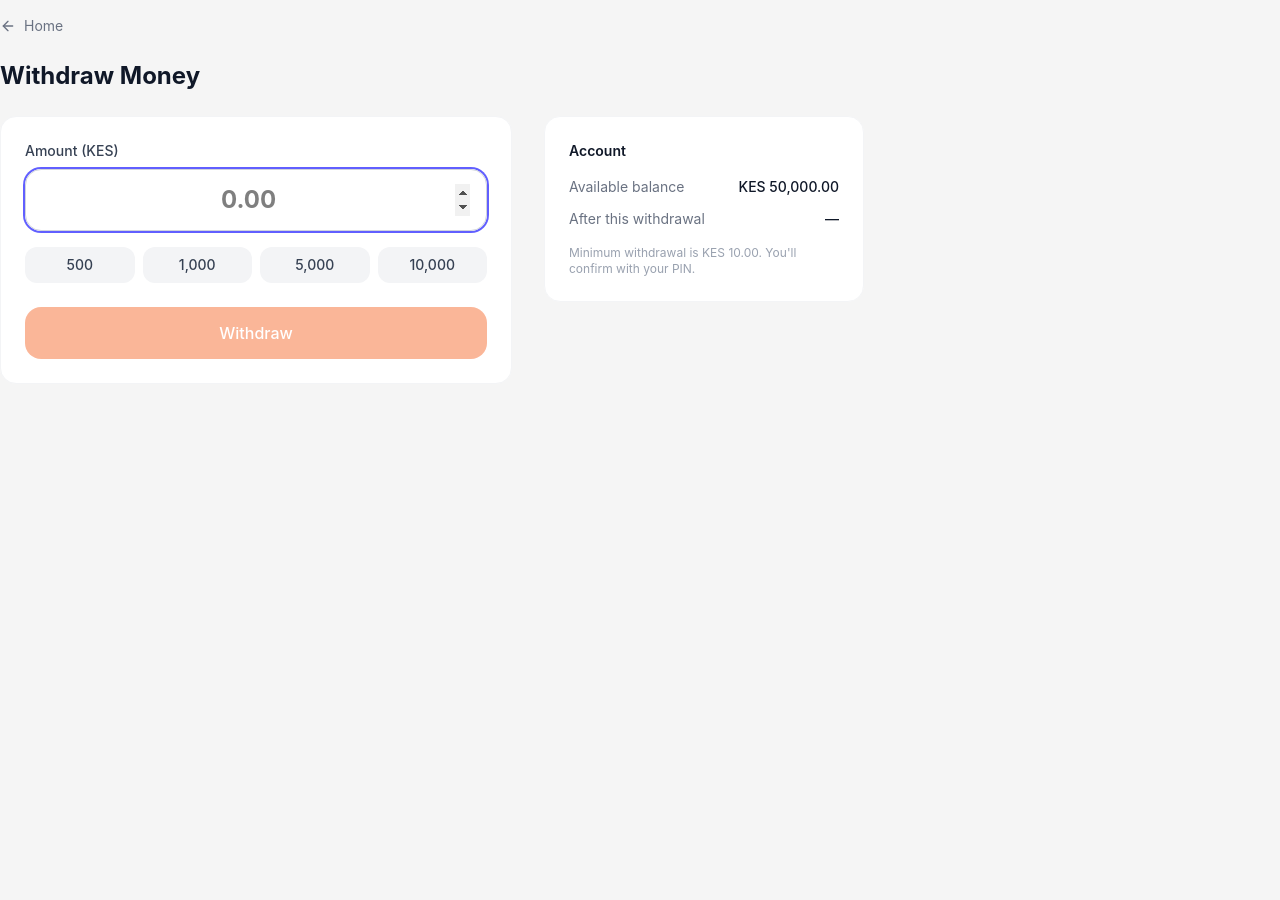
Scenario: WithdrawPage › shows the success screen after the correct PIN is entered
Type "500" into the number field with placeholder "0.00" at (256, 200), box [25,169,487,231]
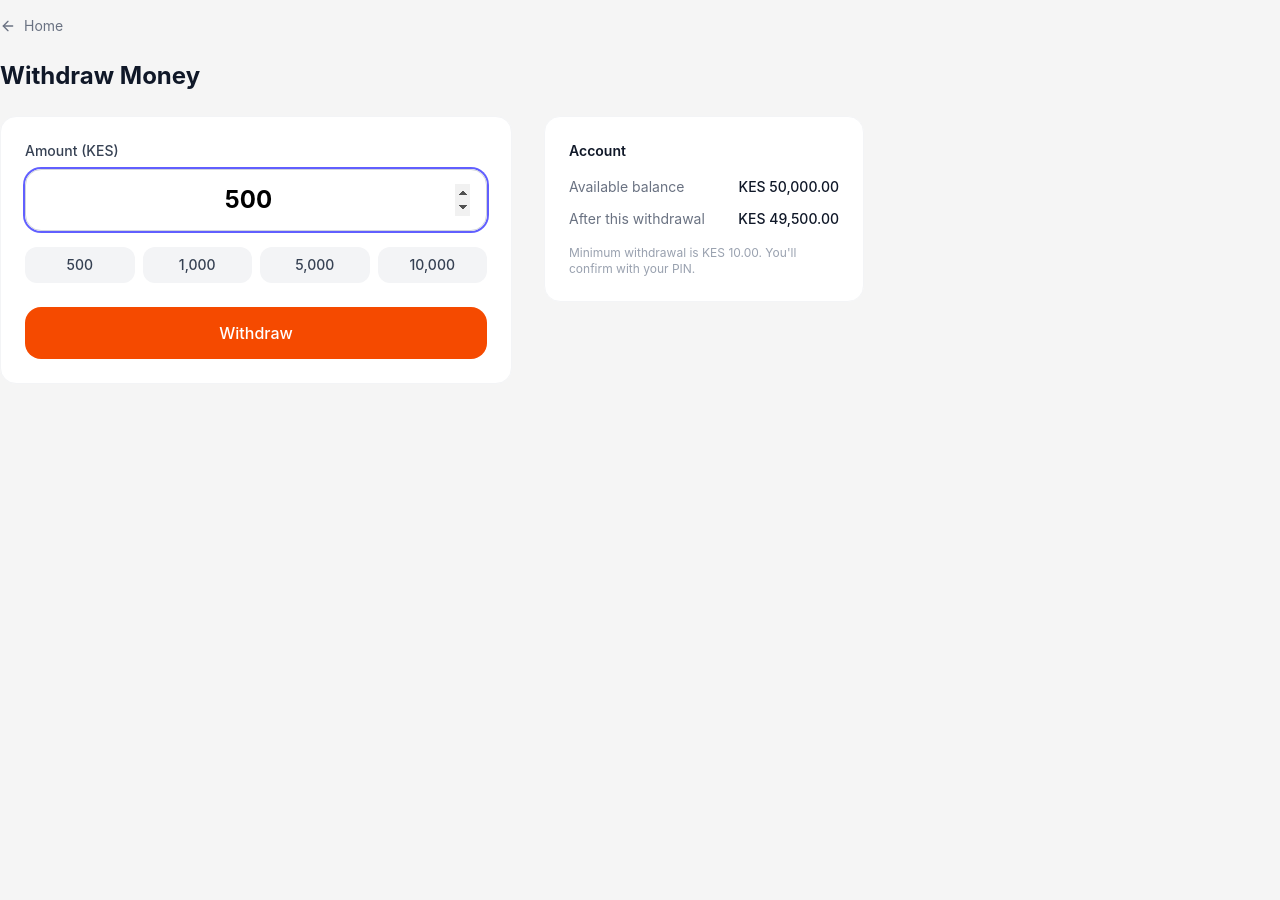
Click the button "Withdraw" at (256, 333), box [25,307,487,359]
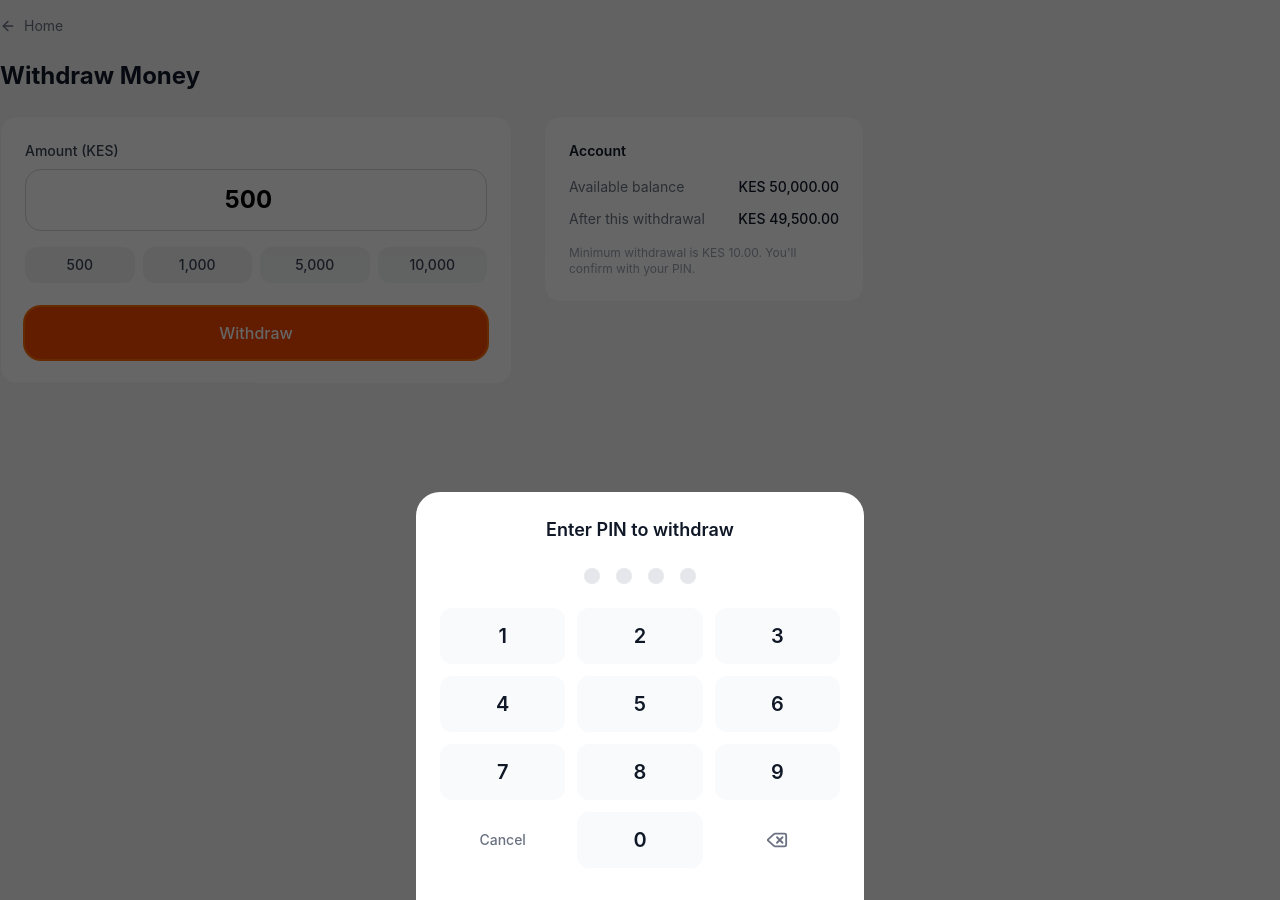
Click the button "1" at (503, 636), box [440,608,565,664]
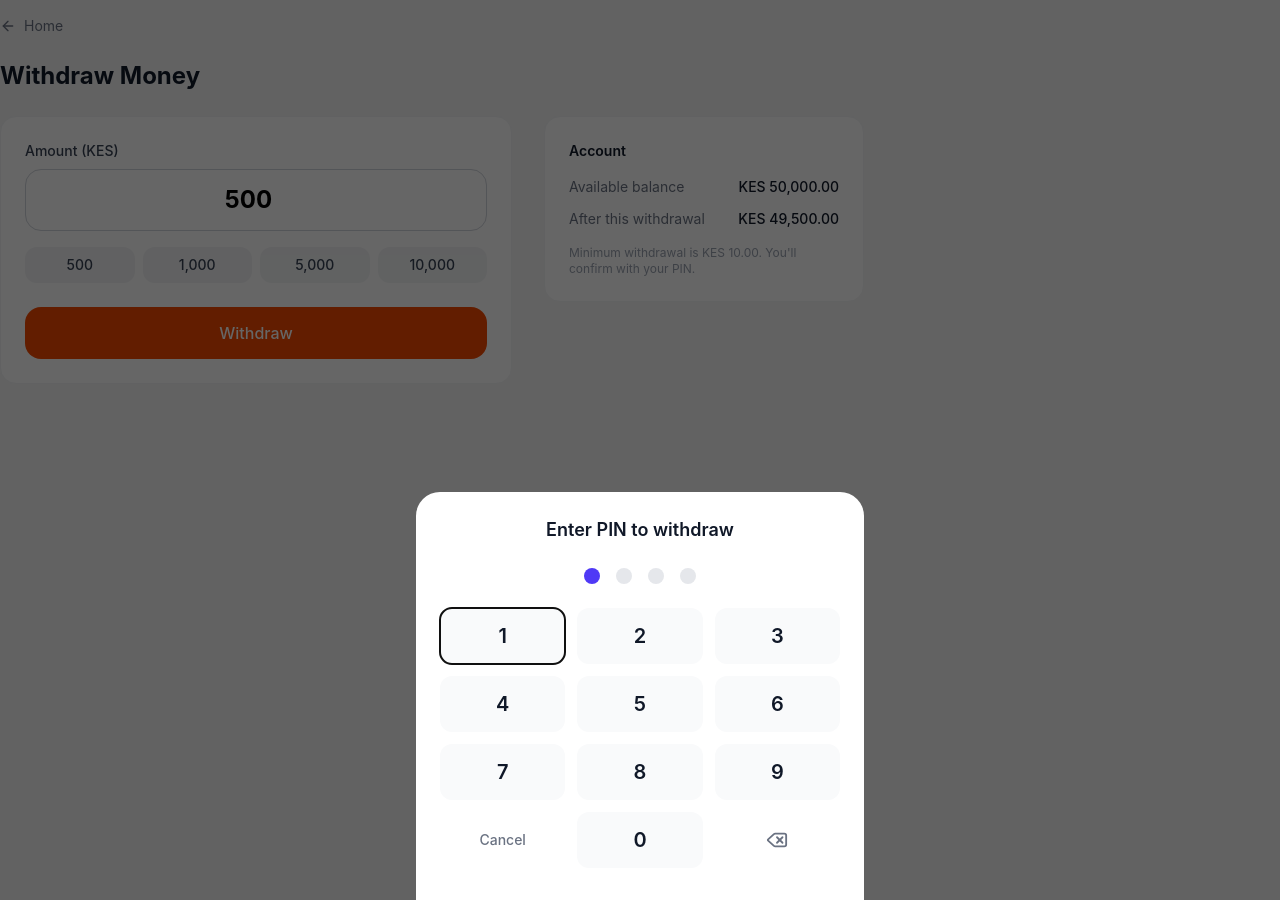
Click the button "2" at (640, 636), box [577,608,703,664]
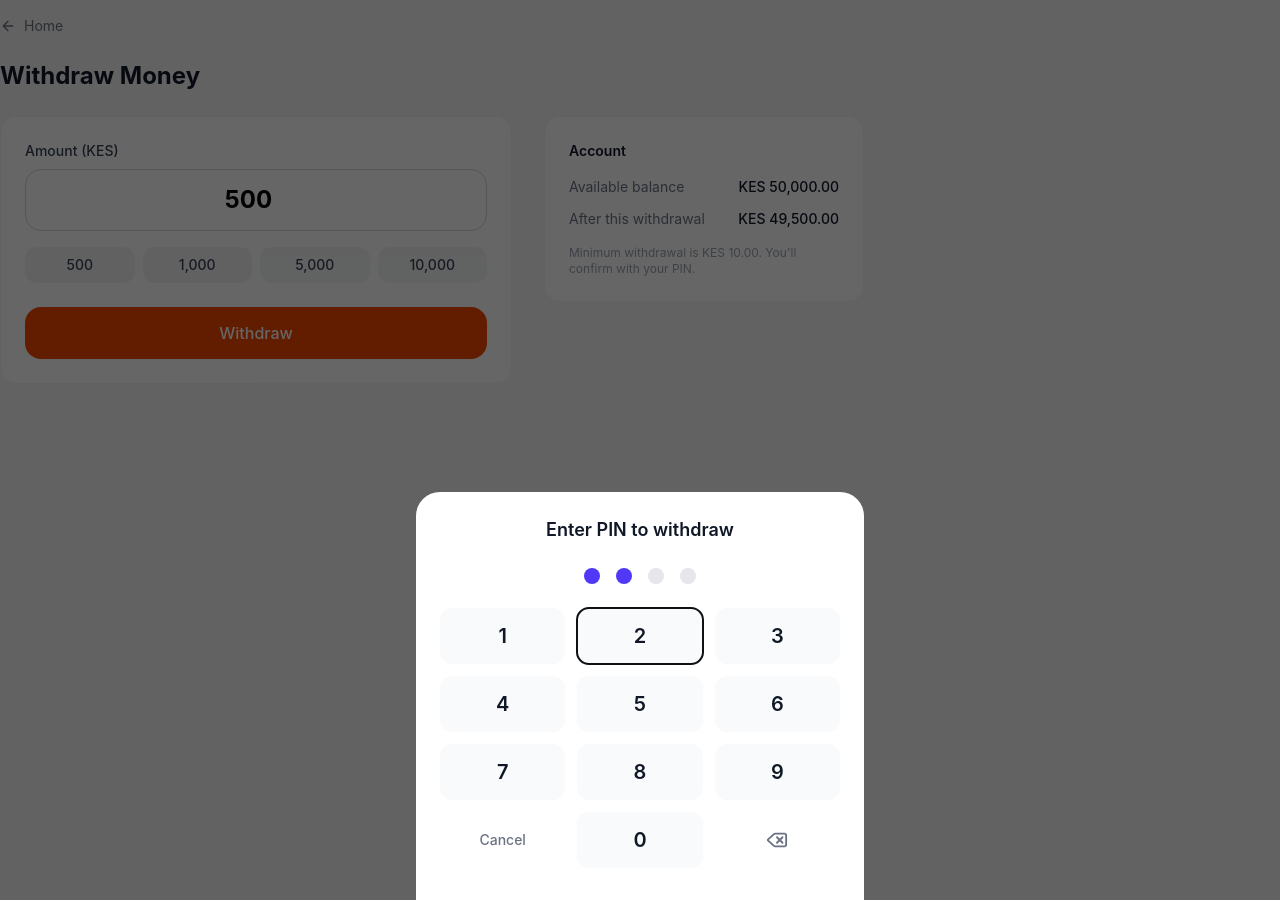
Click the button "3" at (777, 636), box [715,608,840,664]
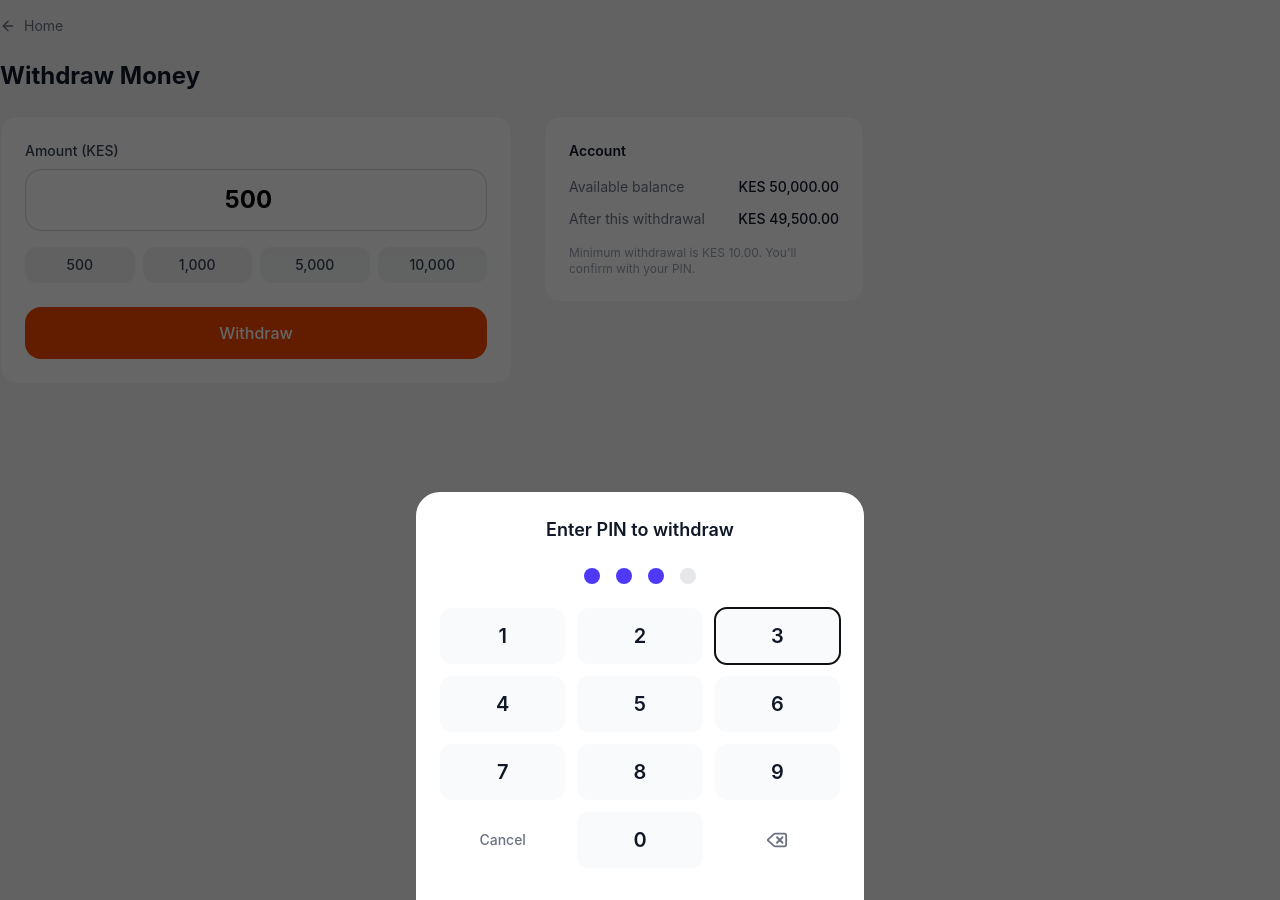
Click the button "4" at (503, 704), box [440,676,565,732]
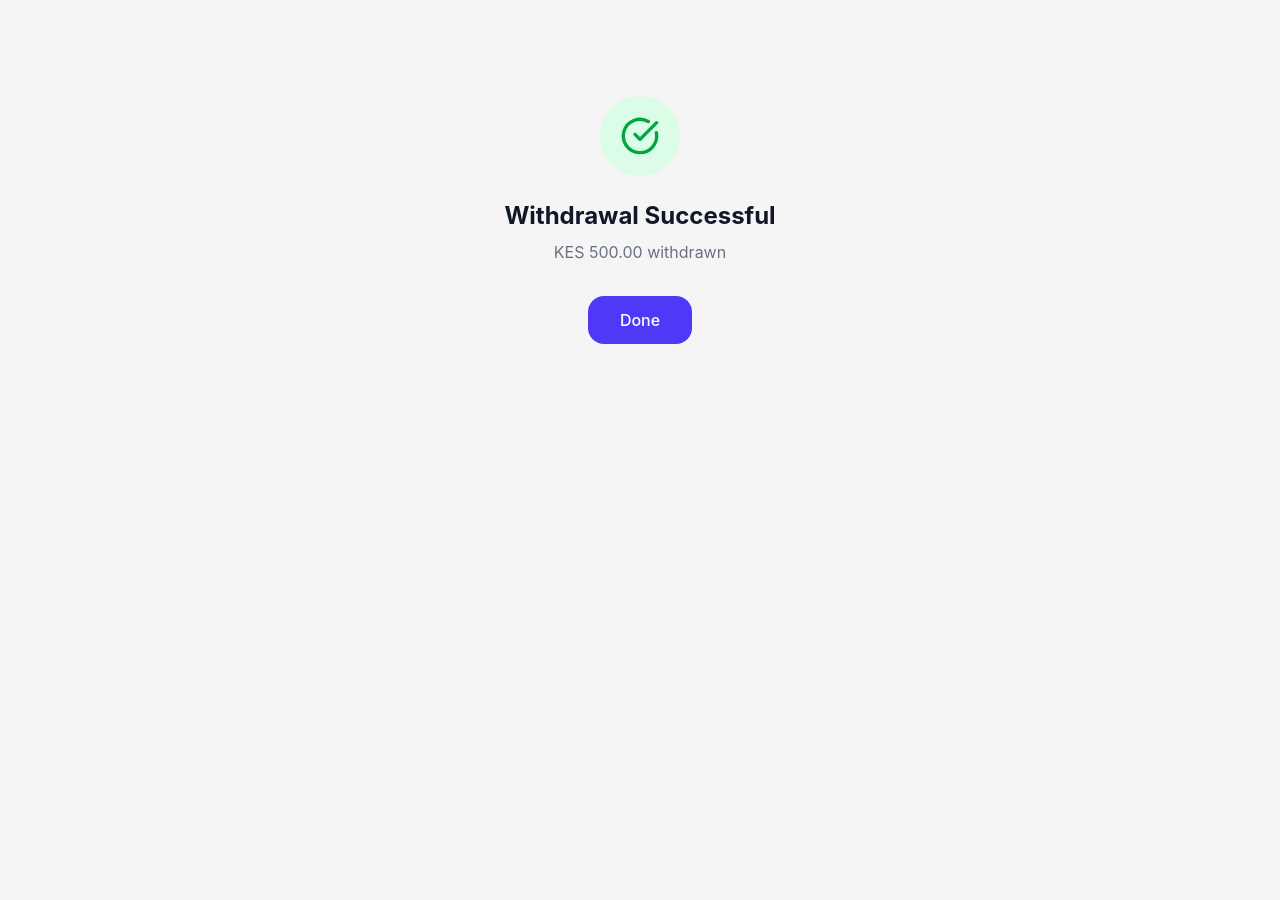
Result: the heading "Withdrawal Successful" is shown at [504,201,776,230]
